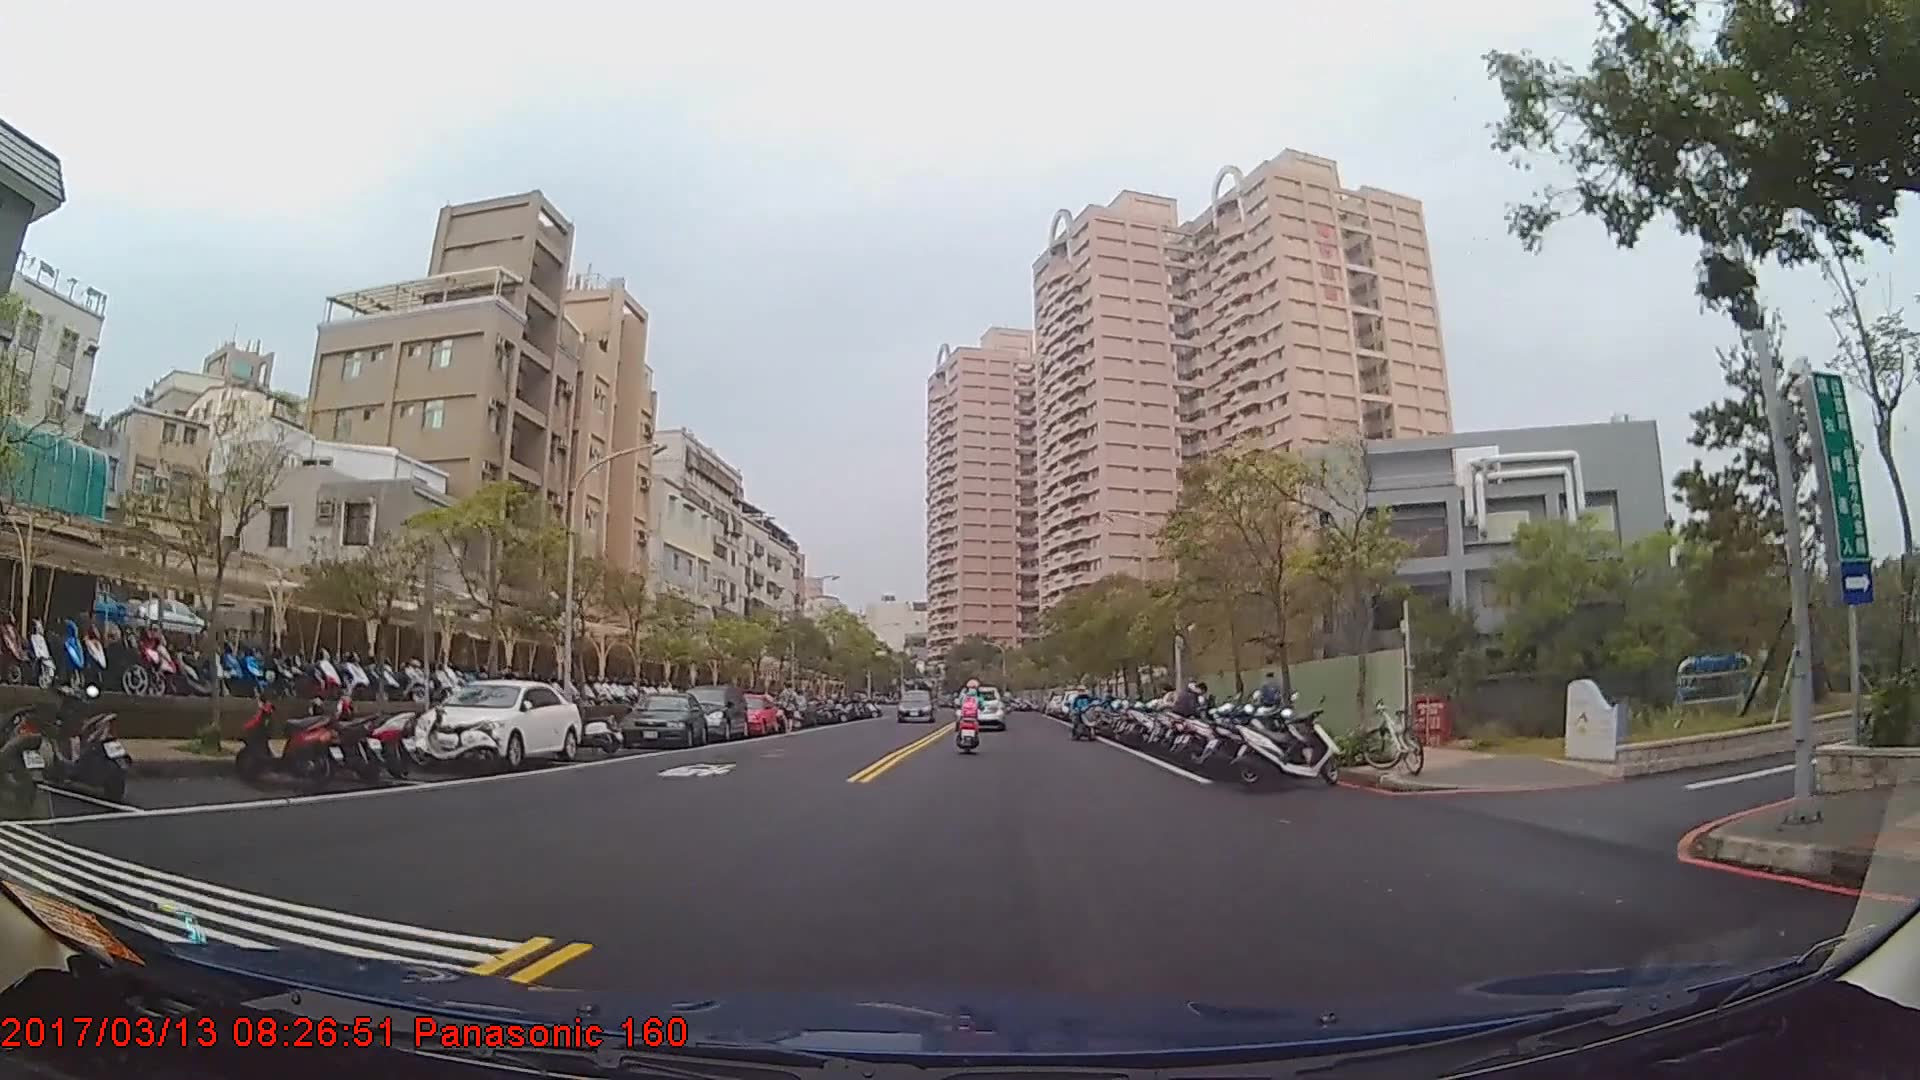pedestrian: (1175, 681, 1209, 754), (1258, 673, 1286, 734), (778, 682, 806, 740)
rider: (957, 682, 987, 754), (1071, 686, 1095, 744)
vehicle: (411, 679, 578, 771), (619, 690, 706, 749), (679, 685, 746, 742), (724, 690, 780, 735), (953, 683, 1005, 732), (897, 687, 933, 722)
